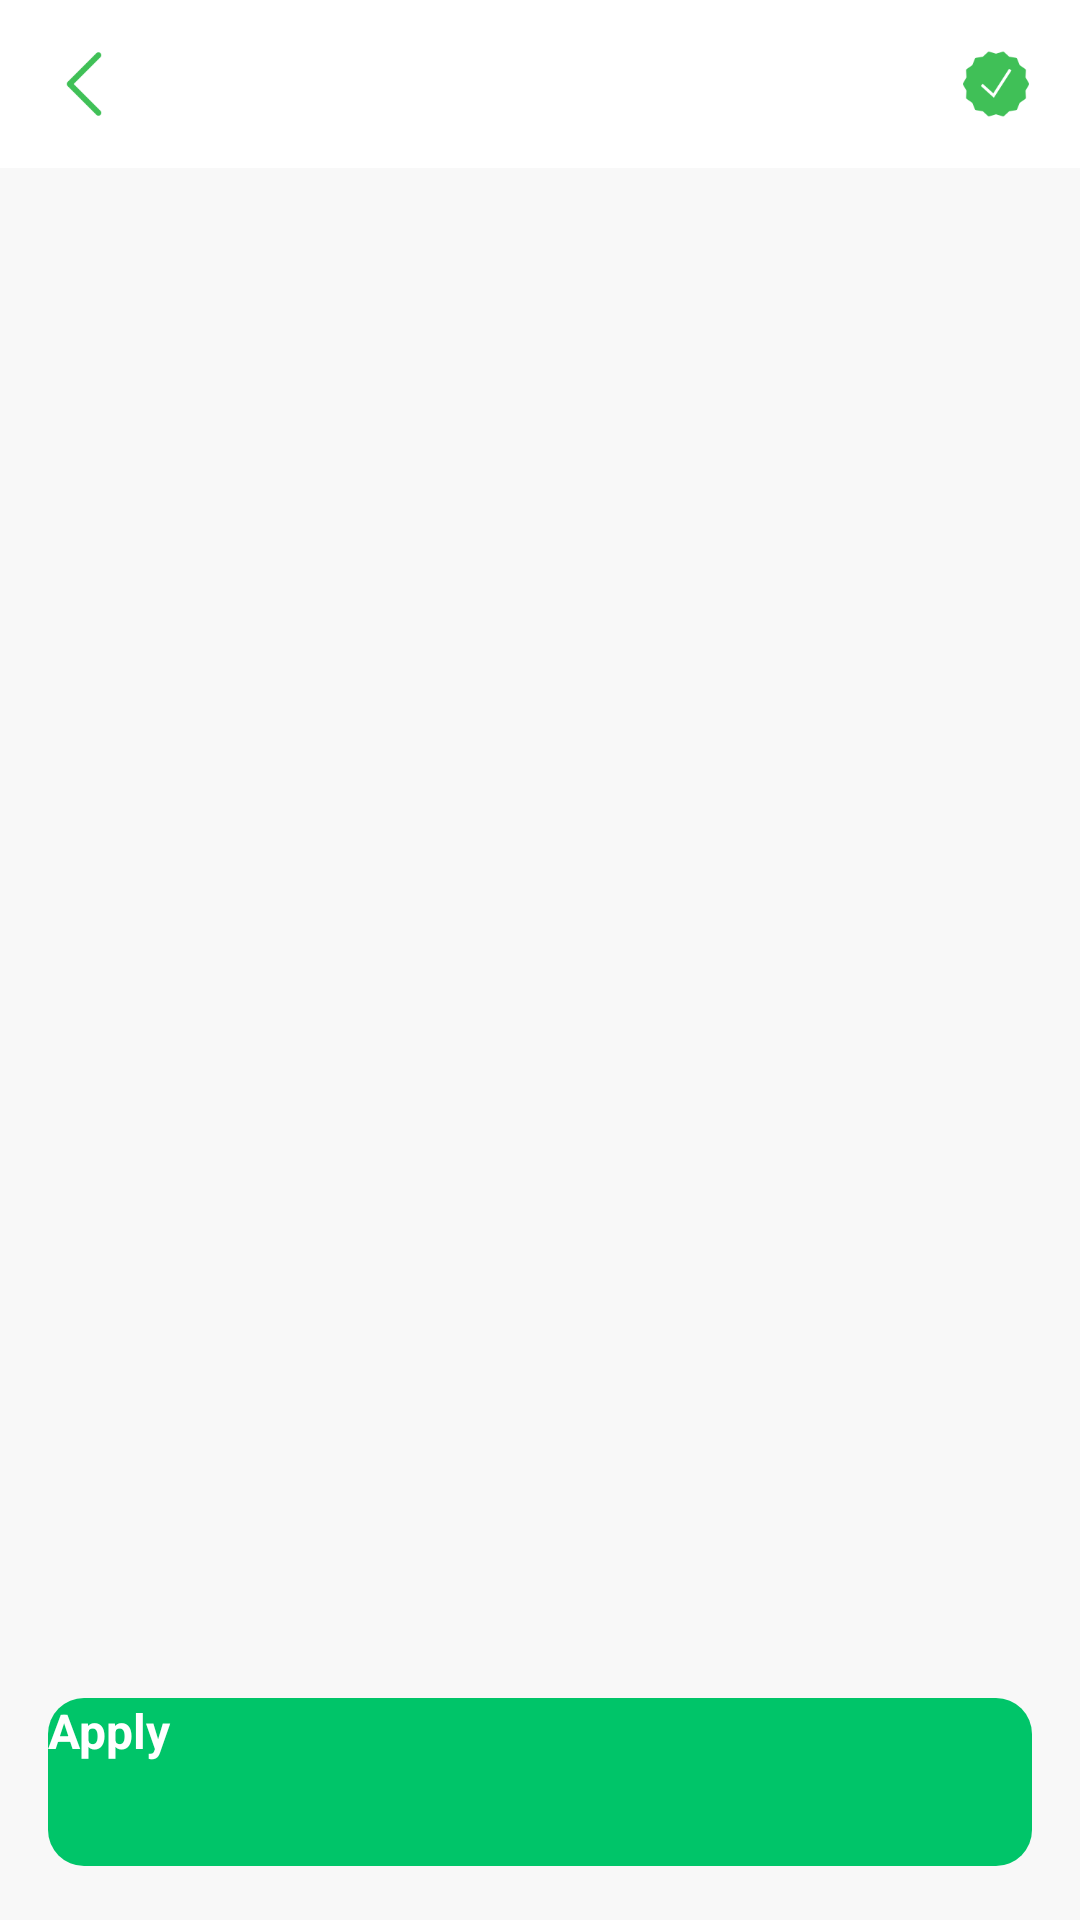

Icons on this 1080w x 1920h Android screen, each with its box as (x1, y1, x2, y2):
back: (66, 52, 102, 116)
check: (963, 51, 1029, 117)
